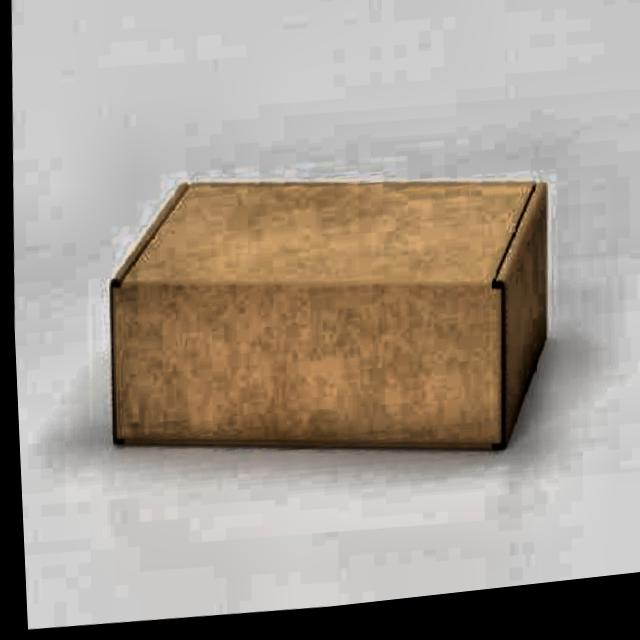Cardbox: (98, 155, 546, 480)
